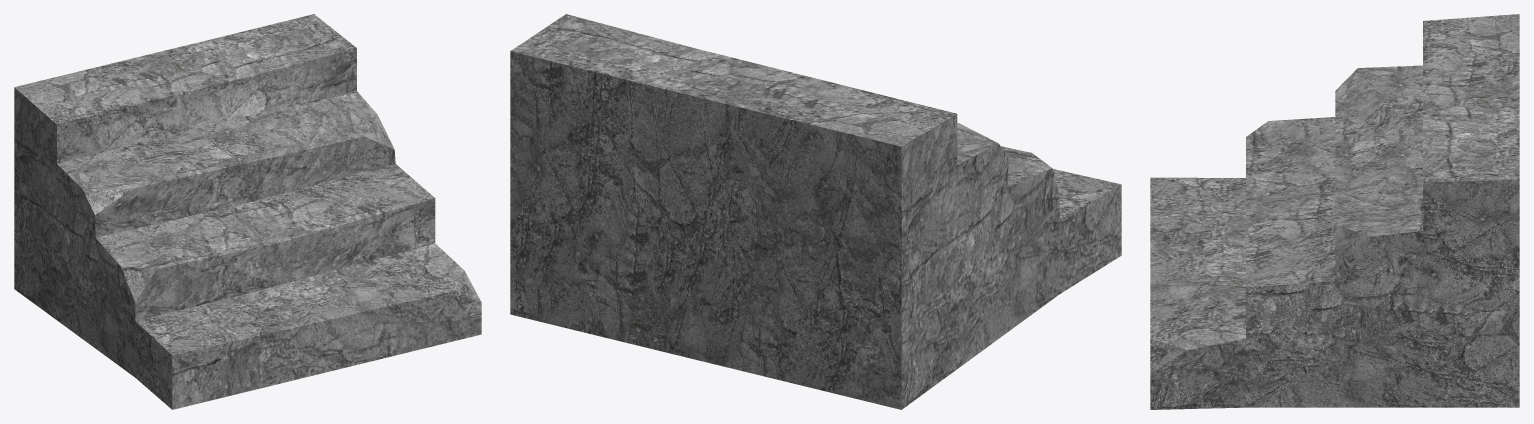
The model's file is materials_3_stairs_6.fbx.
The picture shows the model from 3 angles, left to right: view 1: azimuth 30°, elevation 25°; view 2: azimuth 150°, elevation 25°; view 3: azimuth 270°, elevation 25°; orthographic projection. The views are drawn at different scales.
Visible parts, largest first — view 1: materials_3_stairs_6; view 2: materials_3_stairs_6; view 3: materials_3_stairs_6.
Boxes of the visible parts, x1,y1,x2,y2 form: materials_3_stairs_6: (14, 14, 481, 409); materials_3_stairs_6: (510, 14, 1121, 409); materials_3_stairs_6: (1150, 14, 1519, 409).
Size of the model in its own units: 125 by 77.64 by 114.
